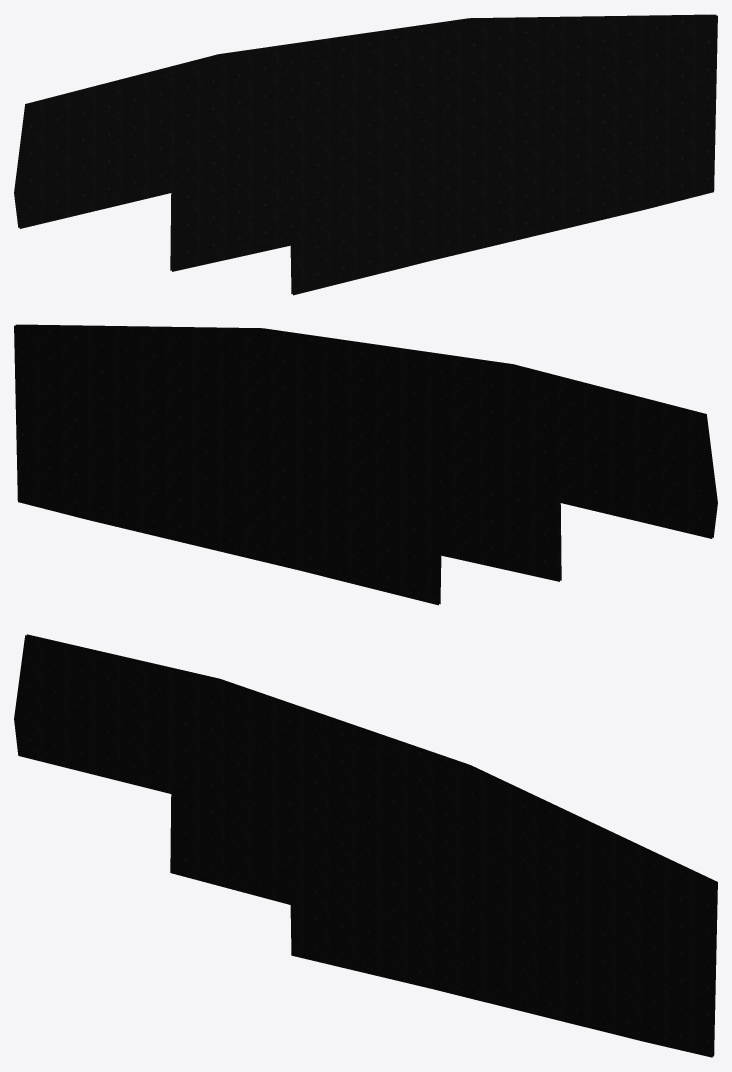
File: floor_23.obj
The picture shows the model from 3 angles, top to bottom: view 1: azimuth 30°, elevation 25°; view 2: azimuth 150°, elevation 25°; view 3: azimuth 330°, elevation 25°; orthographic projection.
Parts seen in each view (by area): view 1: floor_23; view 2: floor_23; view 3: floor_23.
Part boxes in pixels (box(x1,y1,x2,y2)): floor_23: box(14, 14, 717, 295); floor_23: box(14, 324, 717, 605); floor_23: box(14, 634, 717, 1057).
Size of the model in its own units: 26.95 by 9.47 by 0.1.
1 material, 1 textured.
